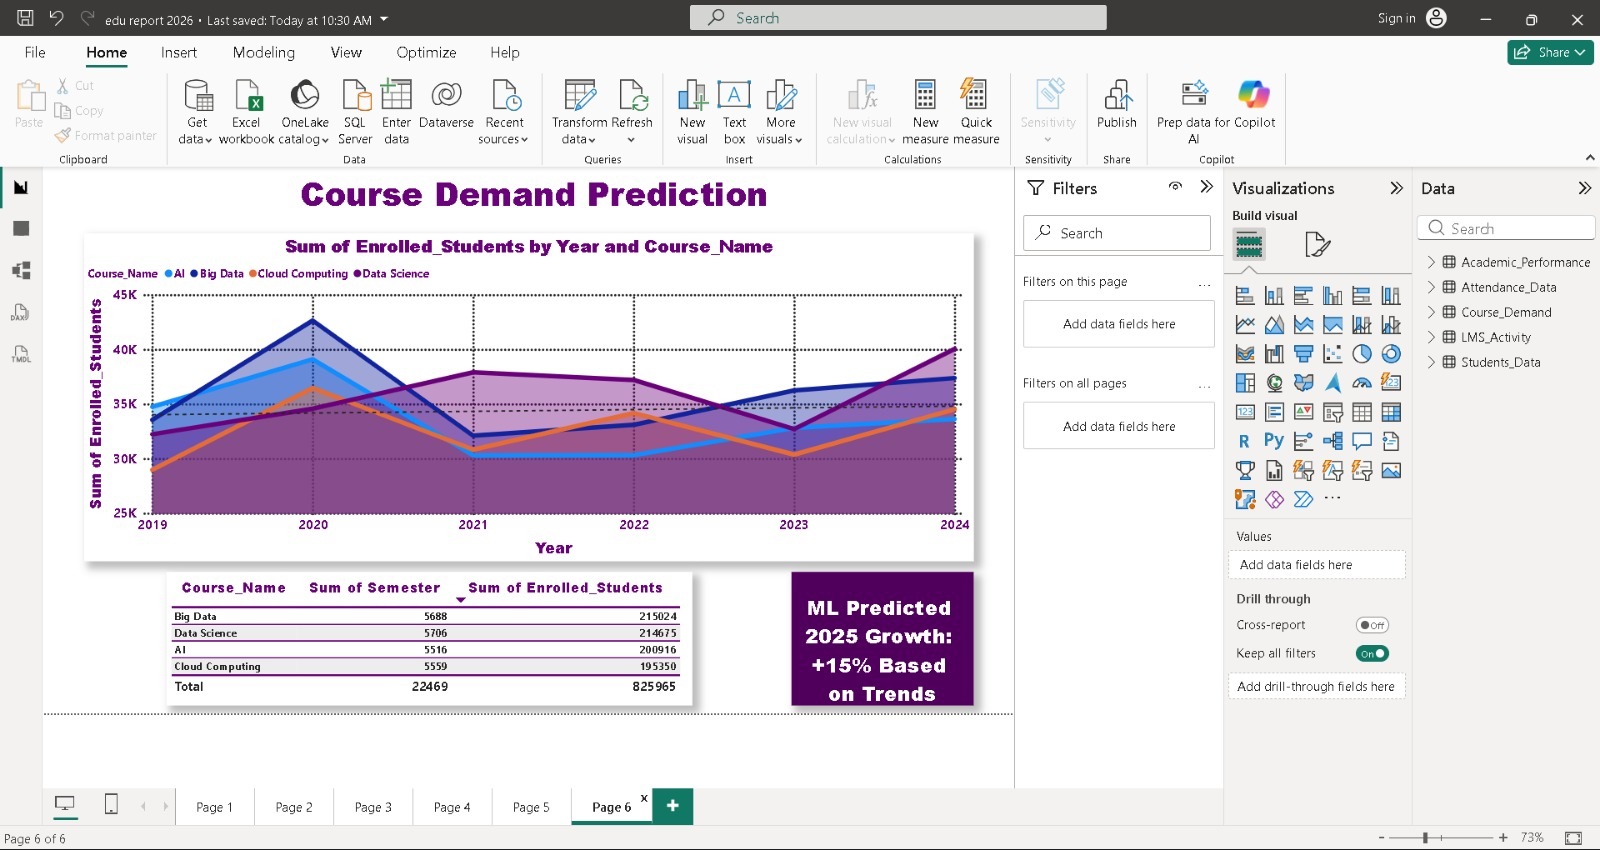

The dashboard page shown, as its layout file describes it:
{"tool":"powerbi","page":{"name":"Page 6","canvas":[1280,720],"ordinal":5},"visuals":[{"type":"textbox","box":[0,0,1280.3,87.8],"z":0},{"type":"areaChart","fields":{"Category":["Course_Demand.Year"],"Y":["Sum(Course_Demand.Enrolled_Students)"],"Series":["Course_Demand.Course_Name"]},"box":[54.9,87.8,1171.9,432.2],"z":1000},{"type":"tableEx","fields":{"Values":["Course_Demand.Course_Name","Sum(Course_Demand.Semester)","Sum(Course_Demand.Enrolled_Students)"]},"box":[163.3,533.8,693,175.6],"z":2000},{"type":"card","fields":{"Values":["Course_Demand.Prediction_Text"]},"box":[986.6,533.8,240.1,175.6],"z":3000}]}

Visuals, with their boxes on the page's 1280x720 design canvas (x1, y1, x2, y2). These are canvas units, not pixel positions in the 1600x850 screenshot, which may show the page scaled, cropped or inside an application window:
textbox: region(0, 0, 1280, 88)
areaChart - Course_Demand.Year x Sum(Course_Demand.Enrolled_Students): region(55, 88, 1227, 520)
tableEx - Course_Demand.Course_Name x Sum(Course_Demand.Semester): region(163, 534, 856, 709)
card - Course_Demand.Prediction_Text: region(987, 534, 1227, 709)
